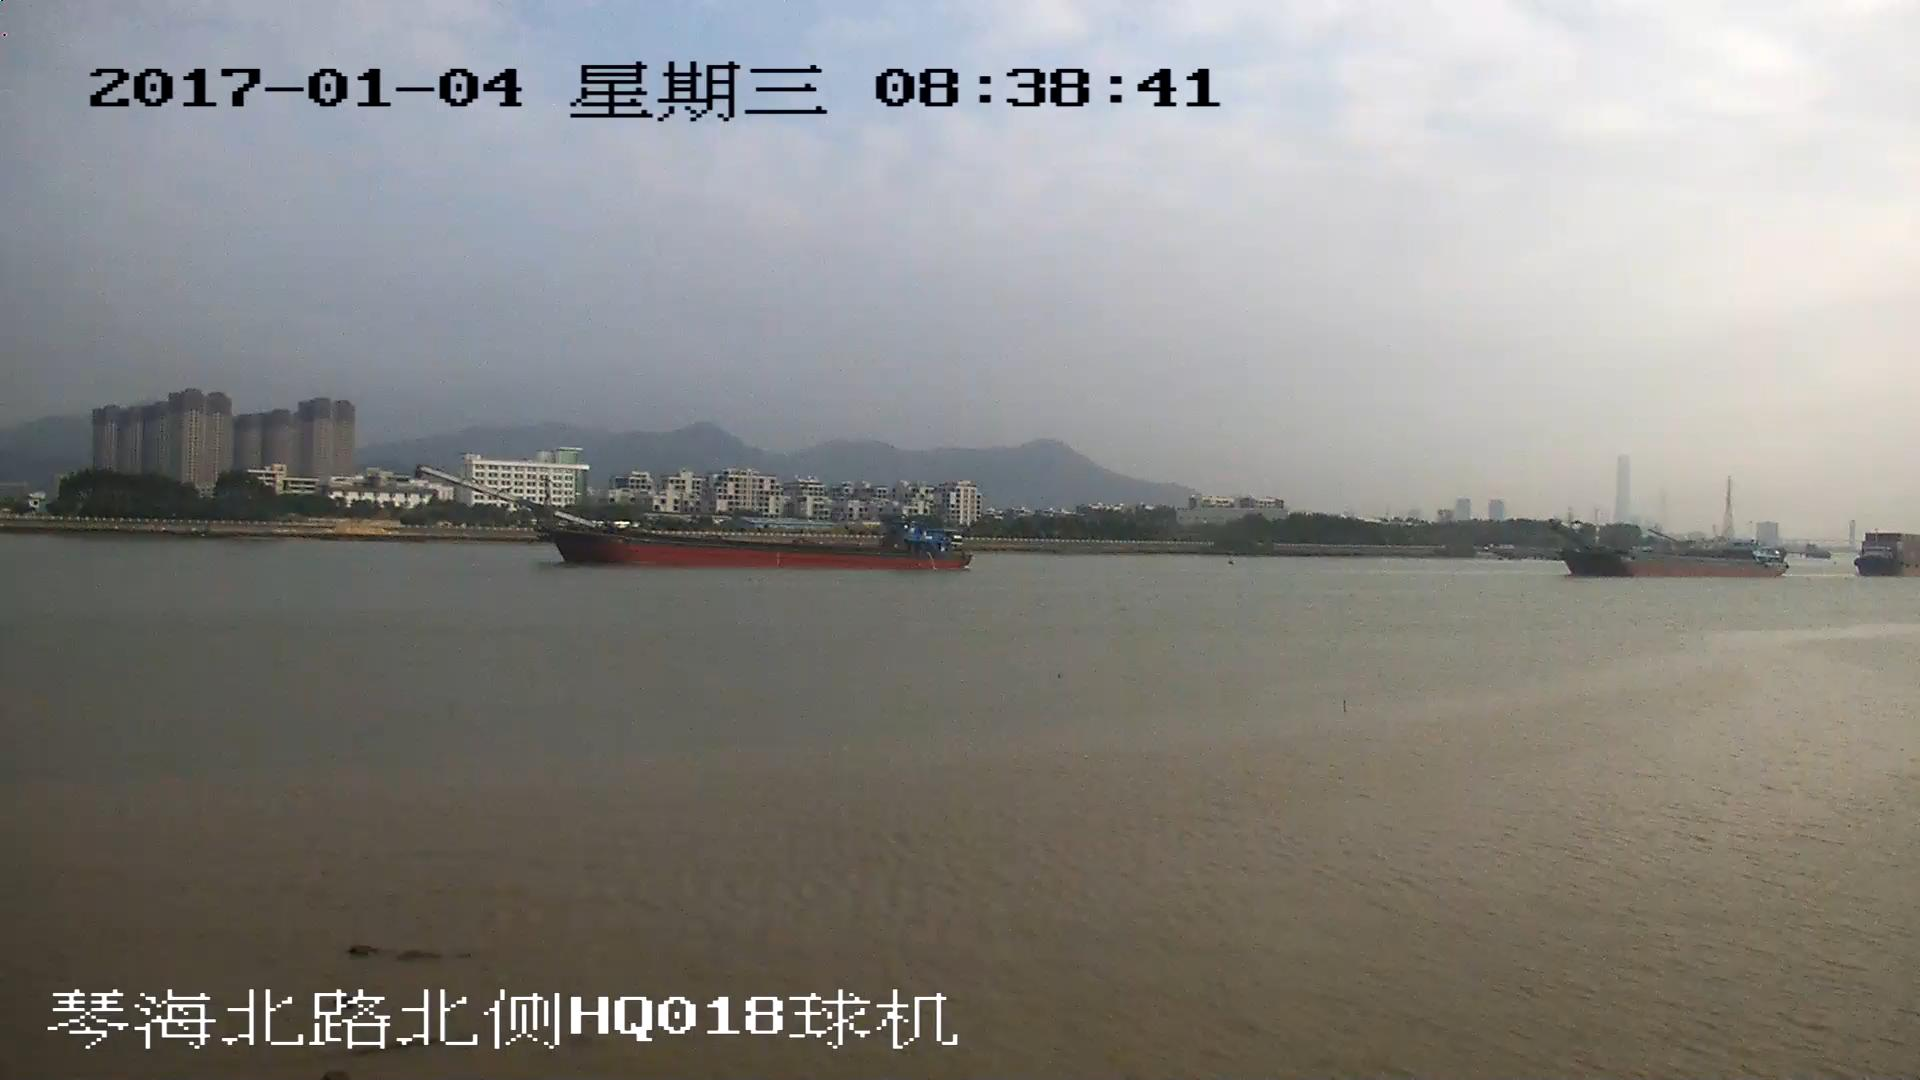bulk cargo carrier: (422, 467, 971, 565), (1556, 520, 1792, 573)
container ship: (1854, 532, 1920, 574)
